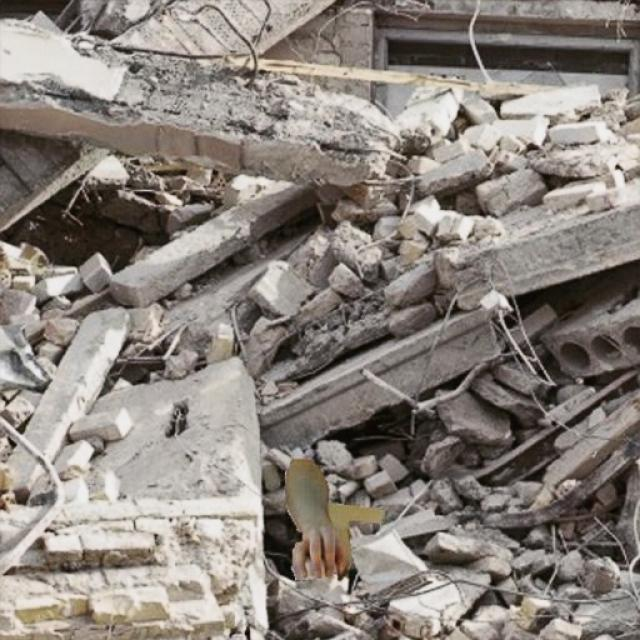Person in Rubble: (284, 458, 384, 582)
